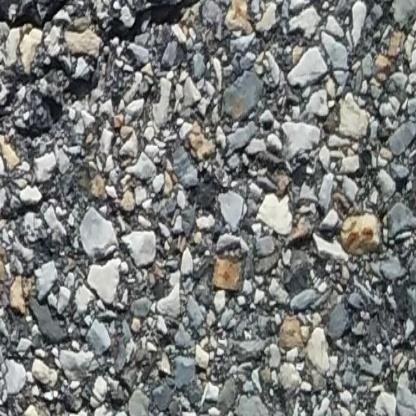Cracks: (108, 0, 220, 39), (0, 0, 83, 43)
